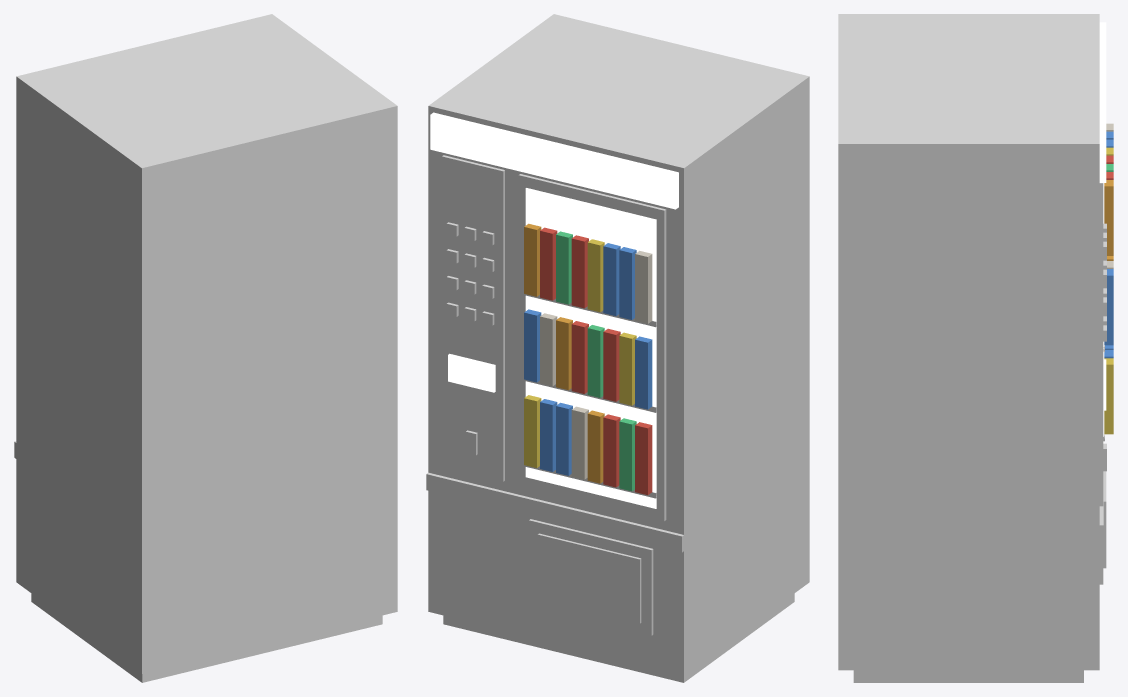
File: vend_white.glb
The picture shows the model from 3 angles, left to right: view 1: azimuth 30°, elevation 25°; view 2: azimuth 150°, elevation 25°; view 3: azimuth 270°, elevation 25°; orthographic projection. The views are drawn at different scales.
Parts seen in each view (by area): view 1: vend_white; view 2: vend_white; view 3: vend_white.
Part boxes in pixels (box(x1,y1,x2,y2)): vend_white: box(14, 14, 397, 682); vend_white: box(426, 14, 809, 682); vend_white: box(838, 14, 1113, 682).
Size of the model in its own units: 1 by 1.95 by 0.896.
